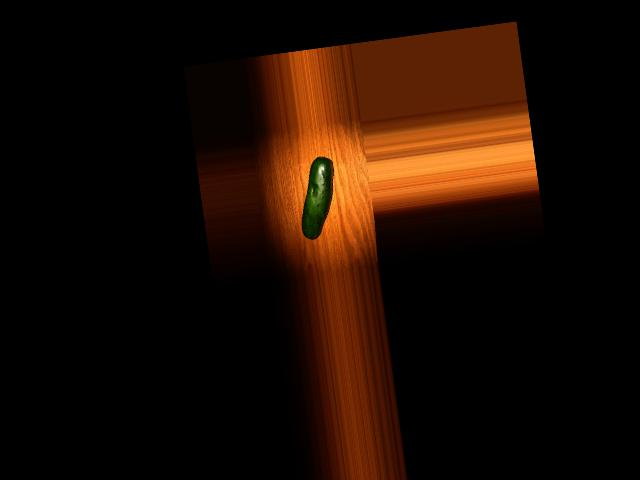cucumber: (293, 156, 342, 241)
